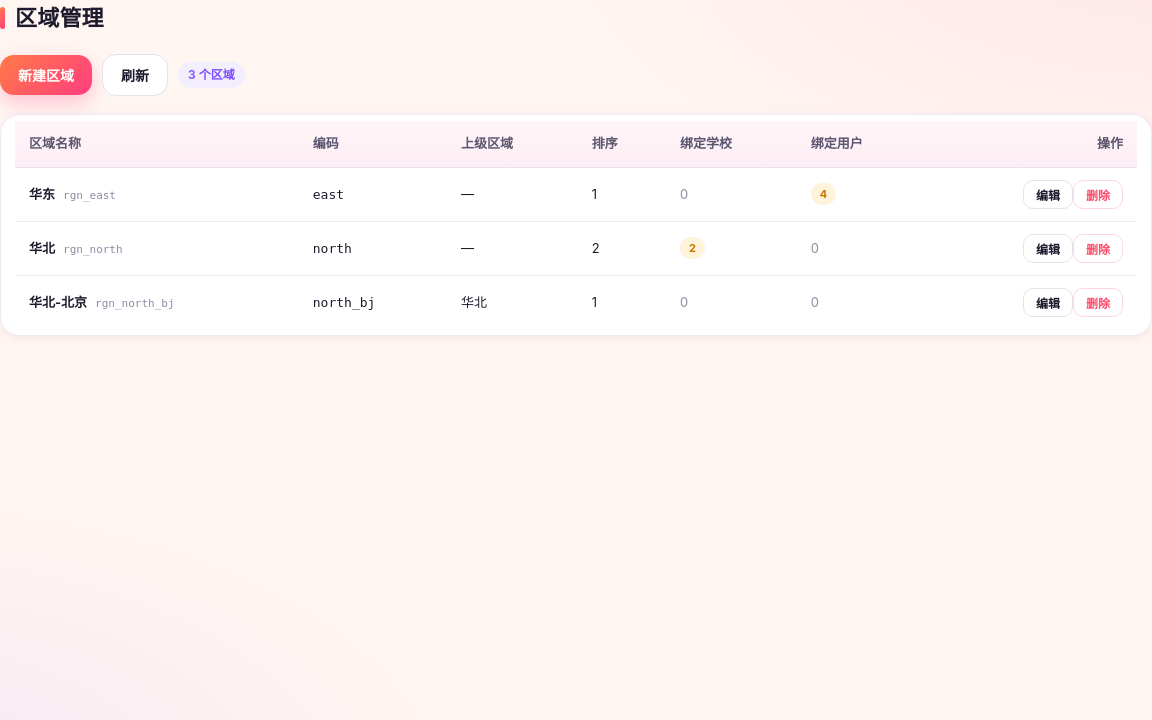
Scenario: SystemRegion 区域管理页（T-AM5） › 编辑对话框回显当前行（region_id 锁定；父级下拉排除自身与子孙）
This screenshot has width=1152, height=720.
// 第 2 行（华北）点编辑
Step 1. Click the 4th button with class "tes-btn" → (1048, 248), box [1023,234,1073,263]
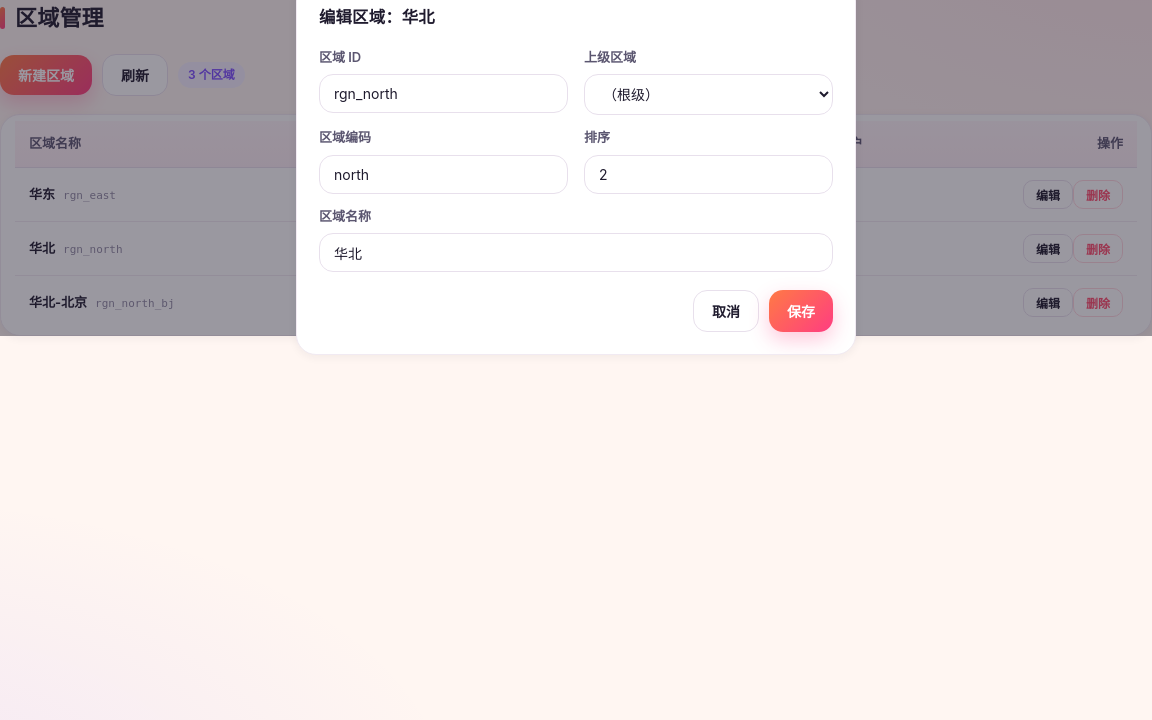
Now the heading "编辑区域：华北" is shown, box [319,7,435,27]
Now the field with placeholder "如 rgn_east" holds "rgn_north", box [319,74,568,113]
Now the field with placeholder "如 rgn_east" is disabled, box [319,74,568,113]
